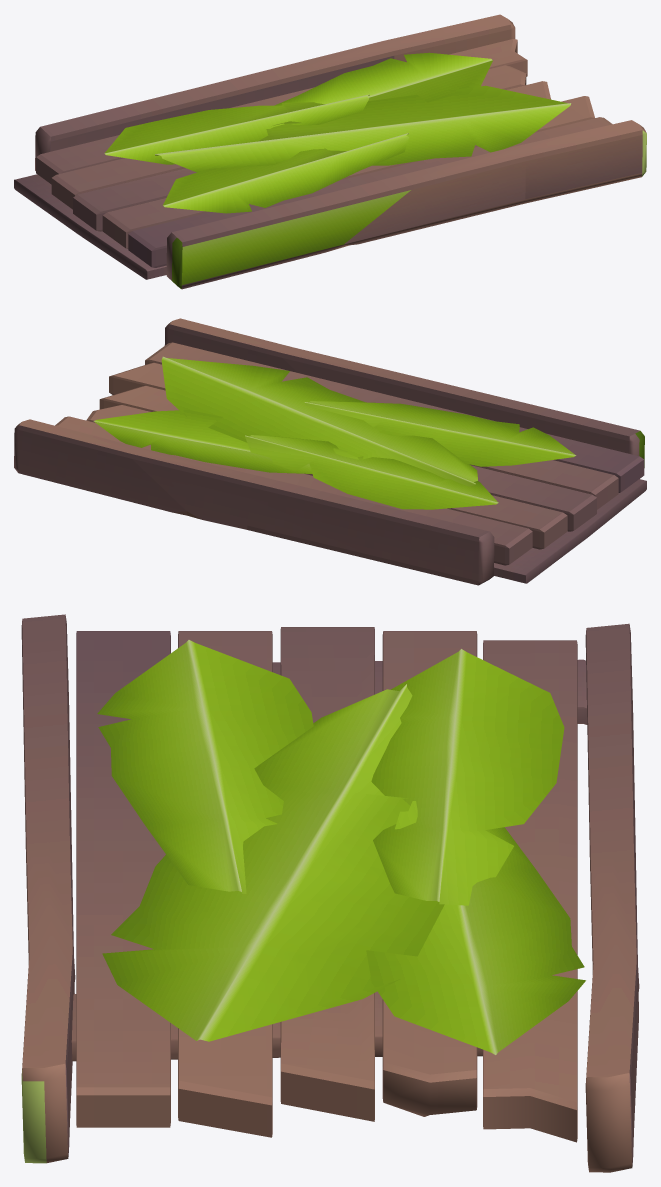
File: Lichon_Board.FBX
The picture shows the model from 3 angles, top to bottom: view 1: azimuth 30°, elevation 25°; view 2: azimuth 150°, elevation 25°; view 3: azimuth 270°, elevation 25°; orthographic projection. The views are drawn at different scales.
Parts seen in each view (by area): view 1: Lichon_Board; view 2: Lichon_Board; view 3: Lichon_Board.
Part boxes in pixels (x1,y1,x2,y2): Lichon_Board: (14,14,646,289); Lichon_Board: (14,318,646,585); Lichon_Board: (21,614,639,1172).
Bounding box in the file's own units: 120 × 11.41 × 63.77.
2 materials, 2 textured.
